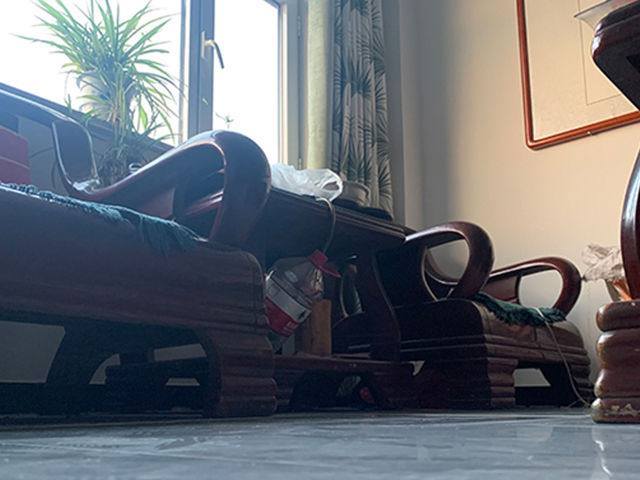curtain: (306, 1, 396, 219)
sofa: (1, 90, 278, 417), (330, 206, 593, 411)
wire: (535, 306, 592, 407)
